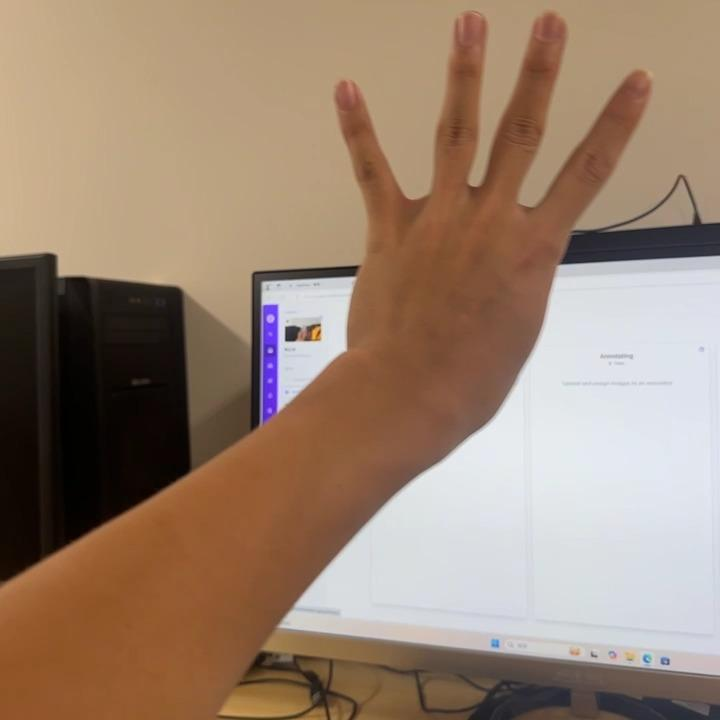without_gloves: (266, 0, 720, 424)
